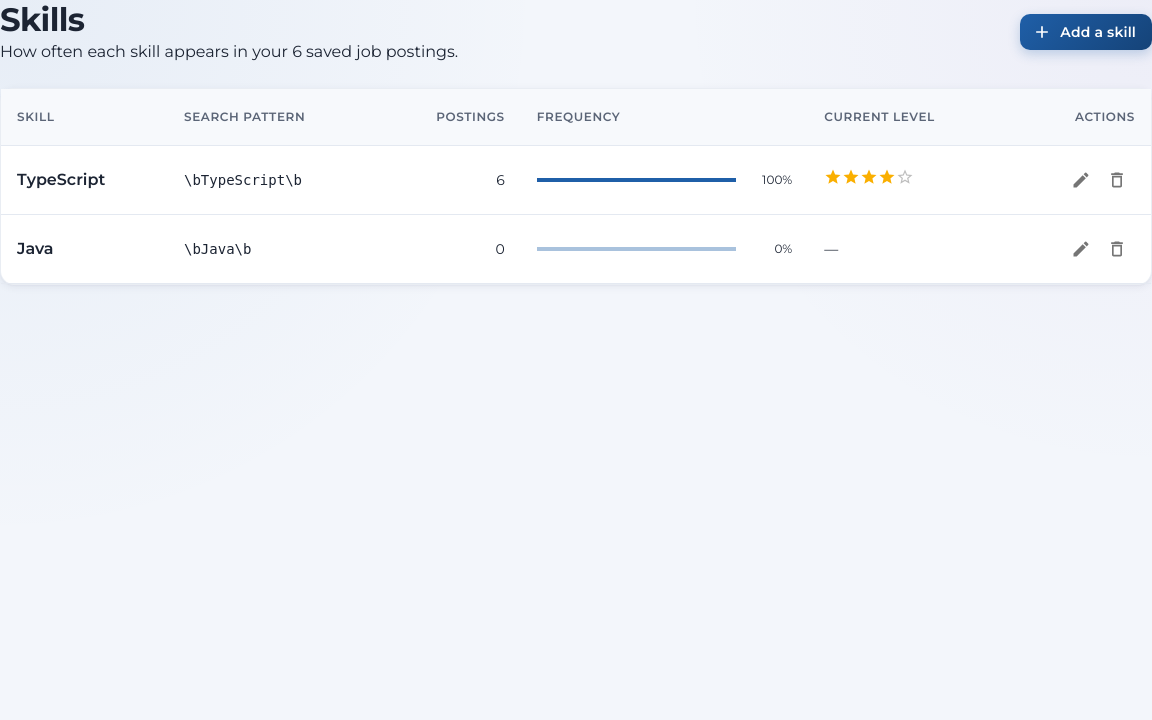
Test: SkillsPage › adds a skill through the dialog
Click the button "Add a skill" at (1086, 32), box [1020,14,1151,50]
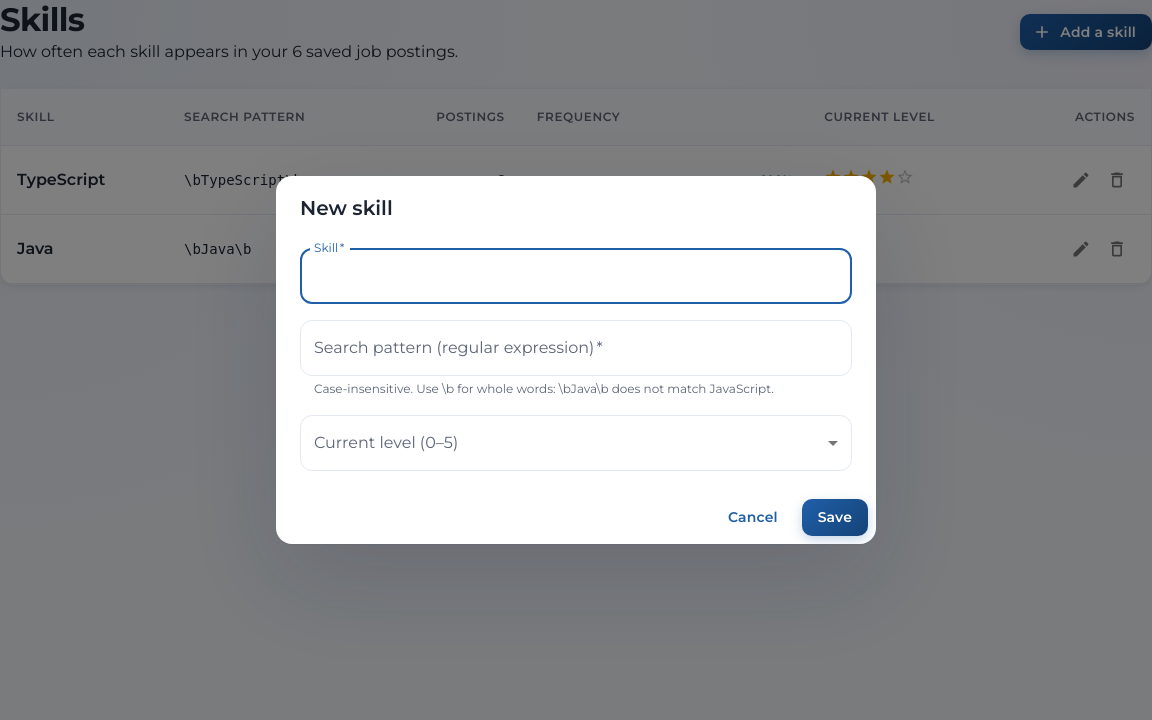
Type "Rust" into the field labelled "Skill *" at (576, 276), box [300,248,852,304]
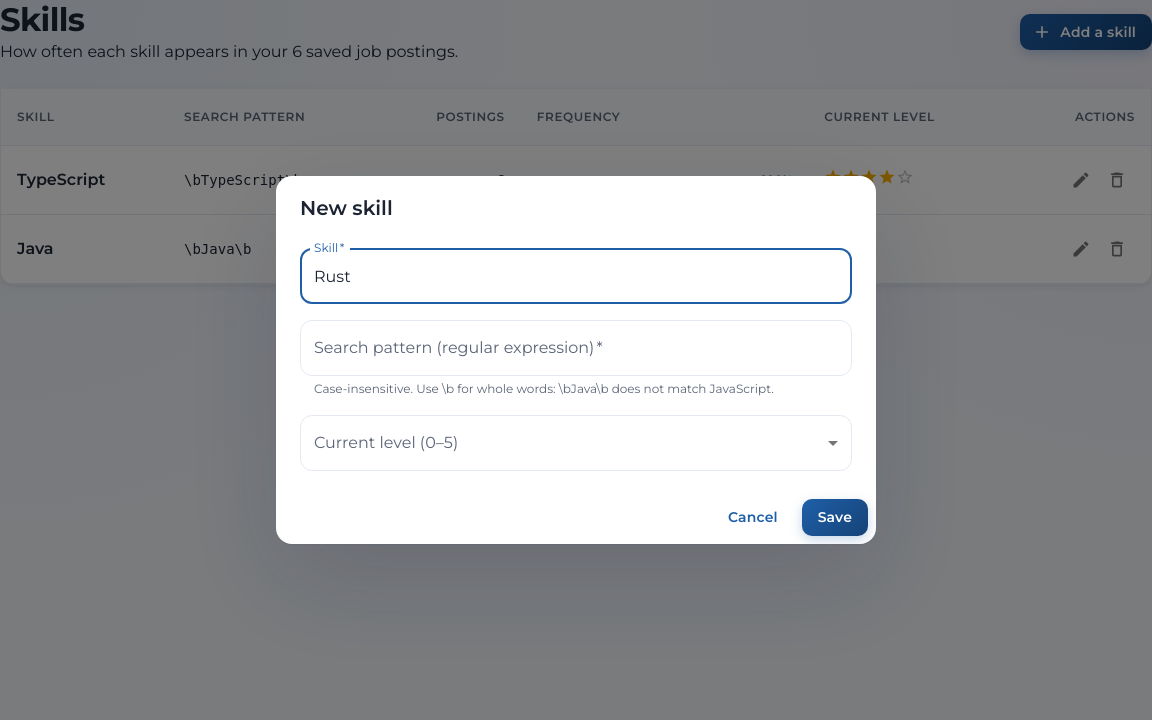
Type "\\bRust\\b" into the field labelled "Search pattern (regular expression) *" at (576, 348), box [300,320,852,376]
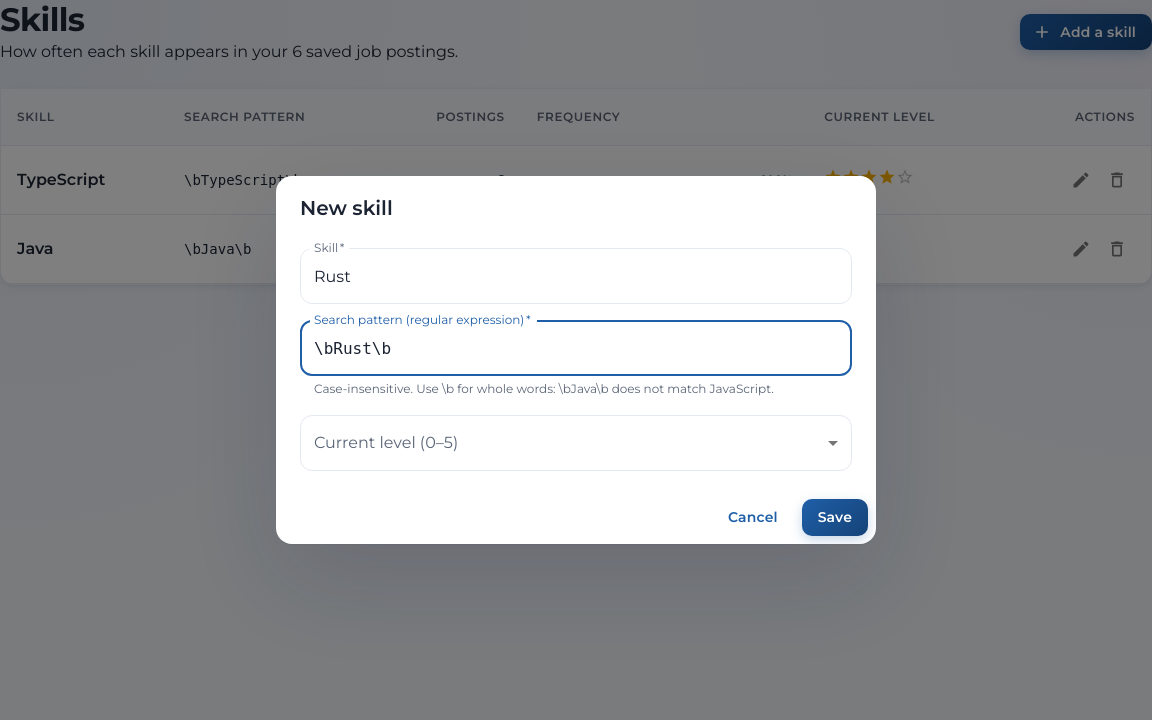
Click the dropdown named "Current level" at (576, 443), box [300,415,852,471]
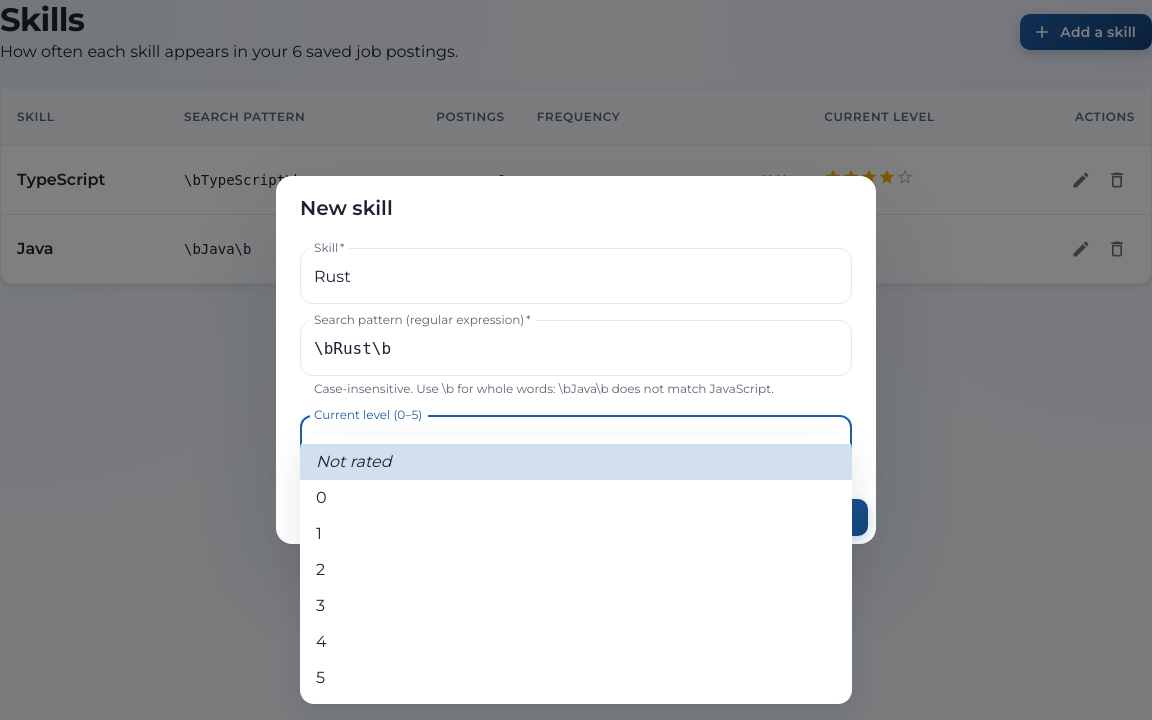
Click the option "1" at (319, 534), box [316,524,322,543]
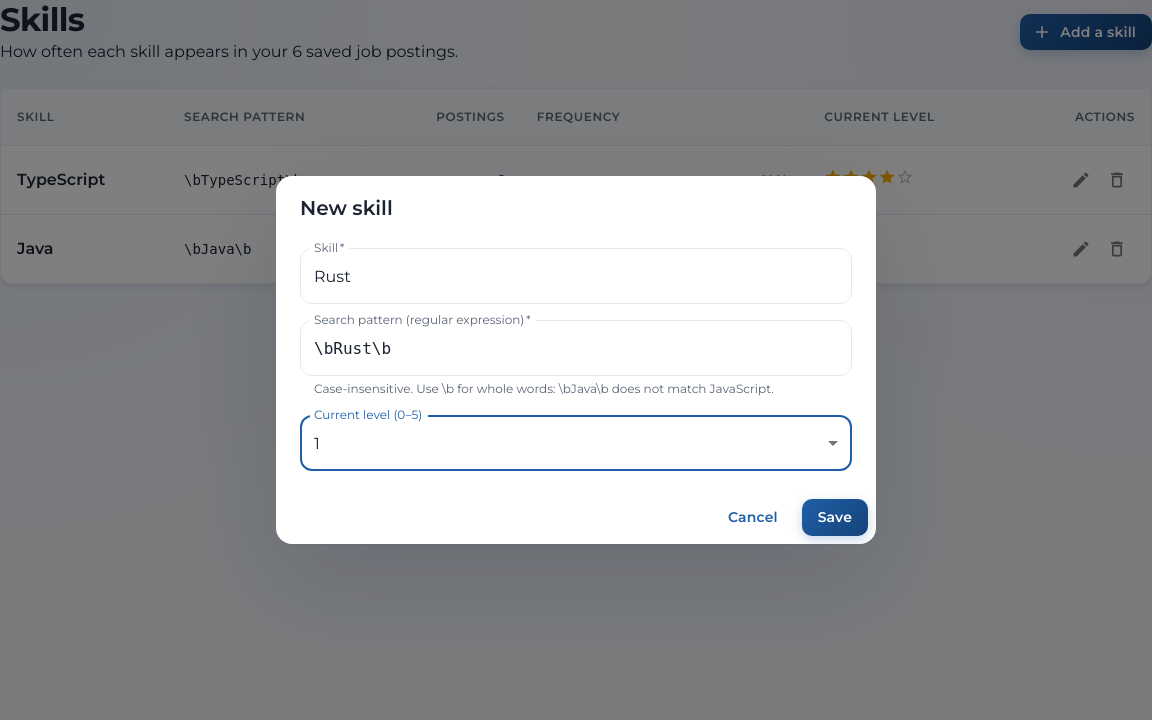
Click the button "Save" at (835, 517), box [802,499,868,536]
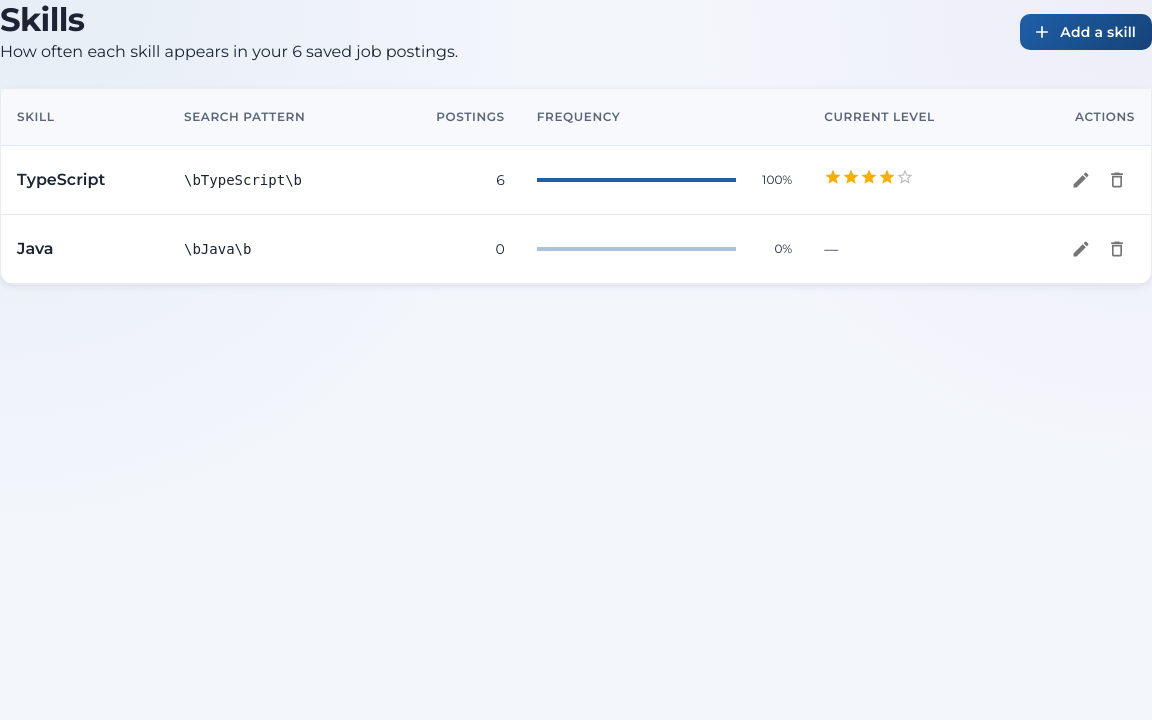
Check: the dialog is gone
